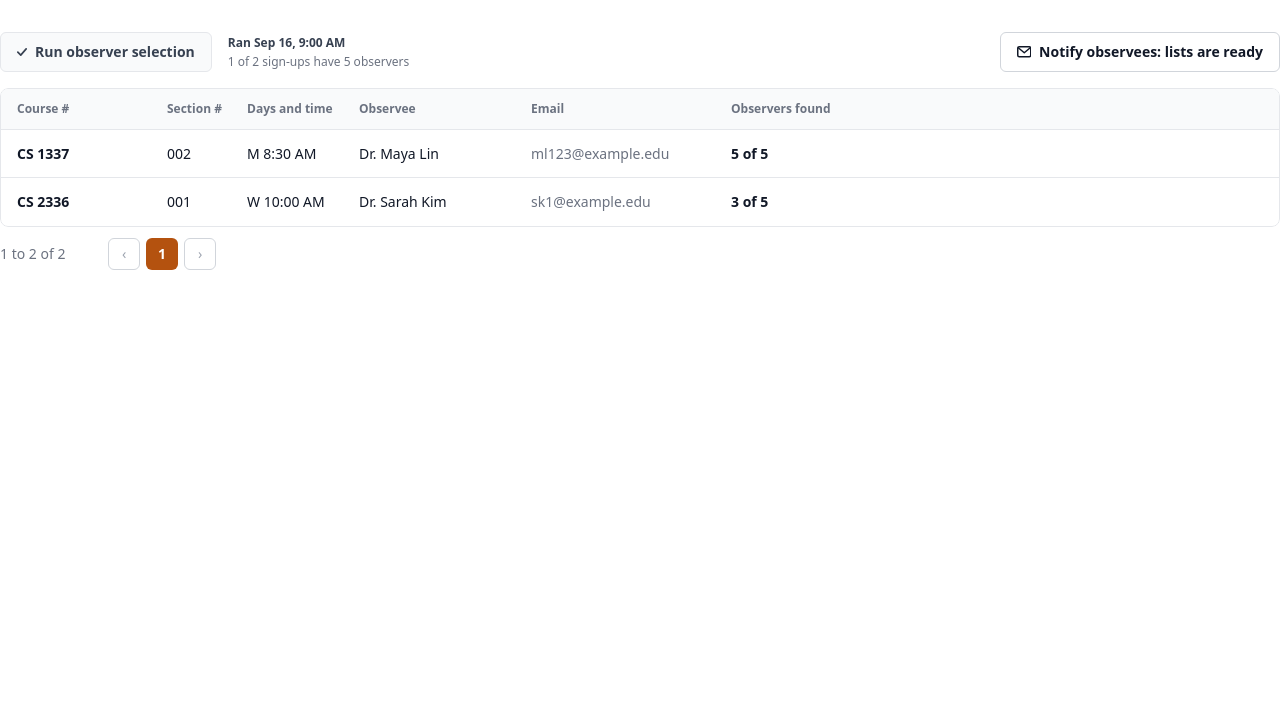
Test: Notify observees that their lists are ready › asks first, sends nothing on Cancel, then sends one POST with no body and reports the count
Click the button "Notify observees: lists are ready": (1140, 52) [1000,32,1279,72]
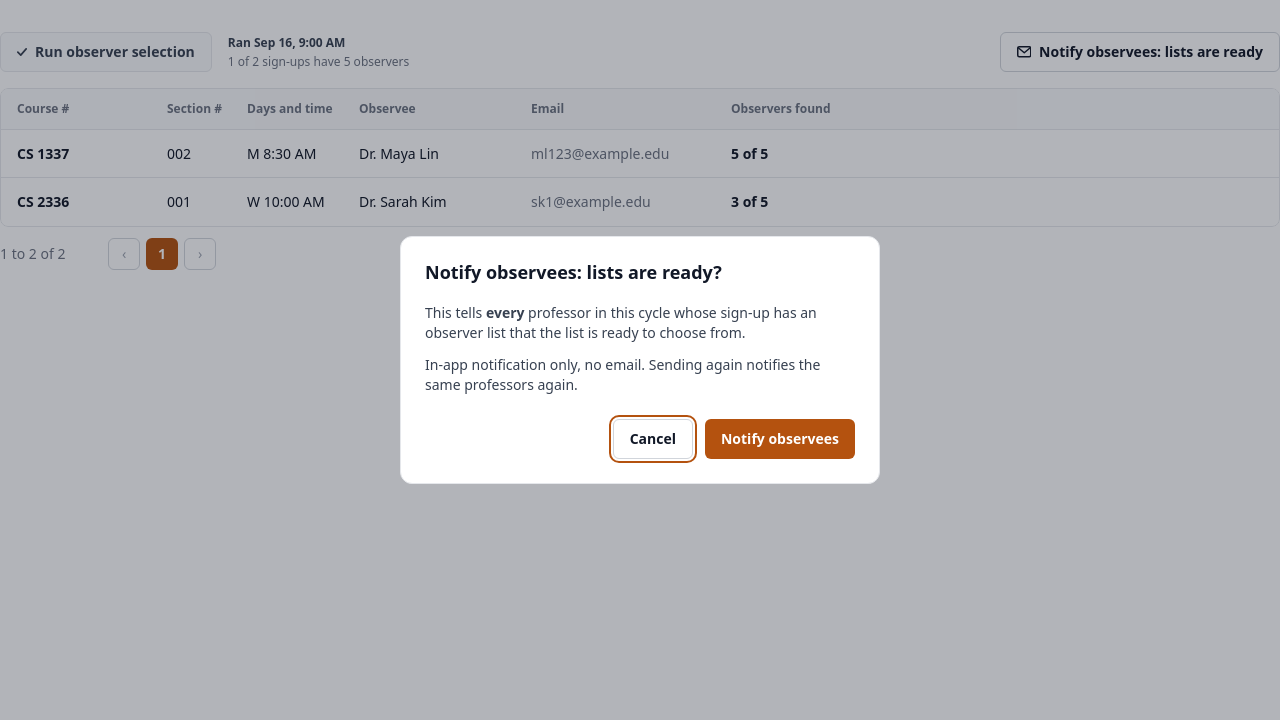
Expected: the dialog "Notify observees: lists are ready?" shows "In-app notification only, no email", [425,355,820,394]
Click the button "Cancel": (653, 439) [613,419,693,459]
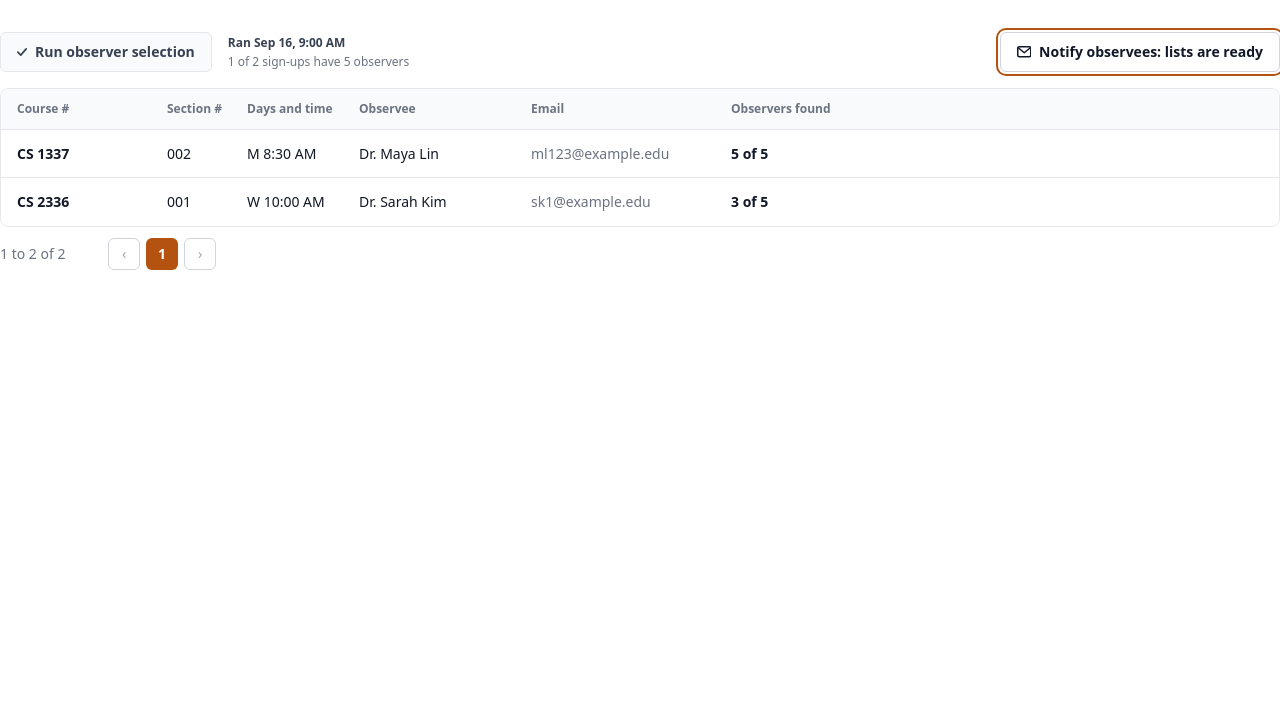
Expected: the dialog is gone
Click the button "Notify observees: lists are ready": (1140, 52) [1000,32,1279,72]
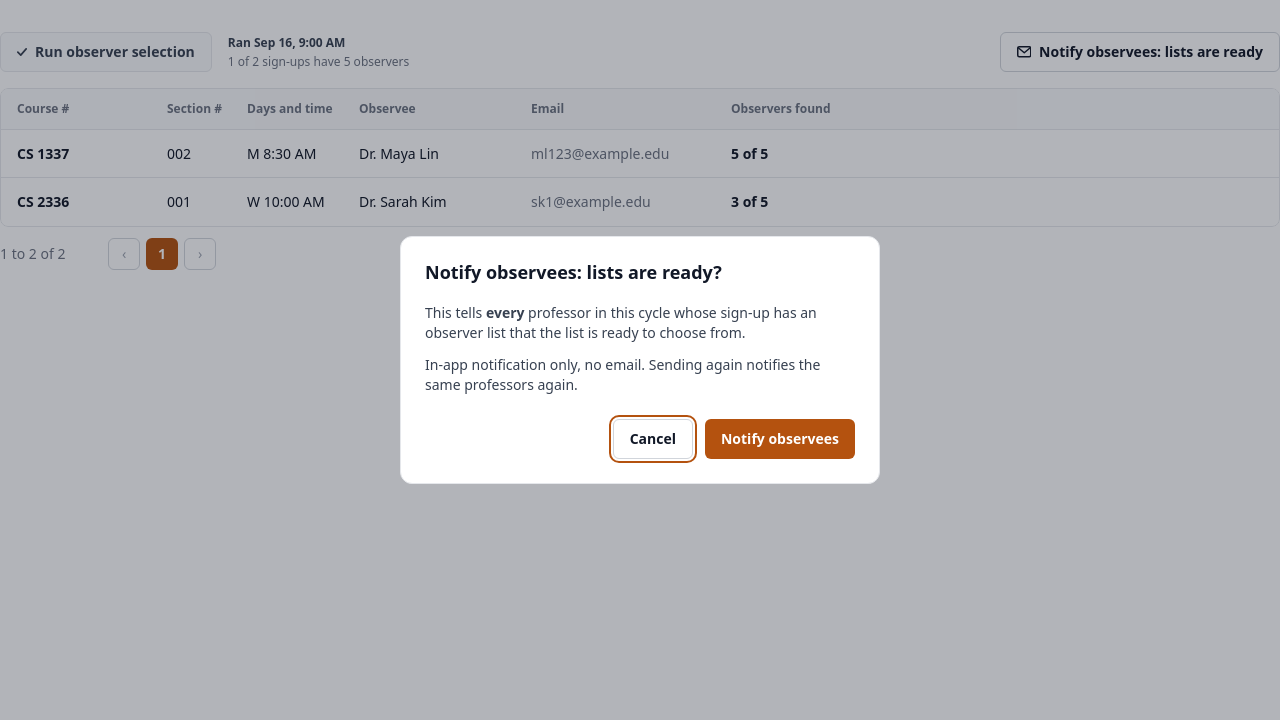
Click the button "Notify observees": (780, 439) [705,419,855,459]
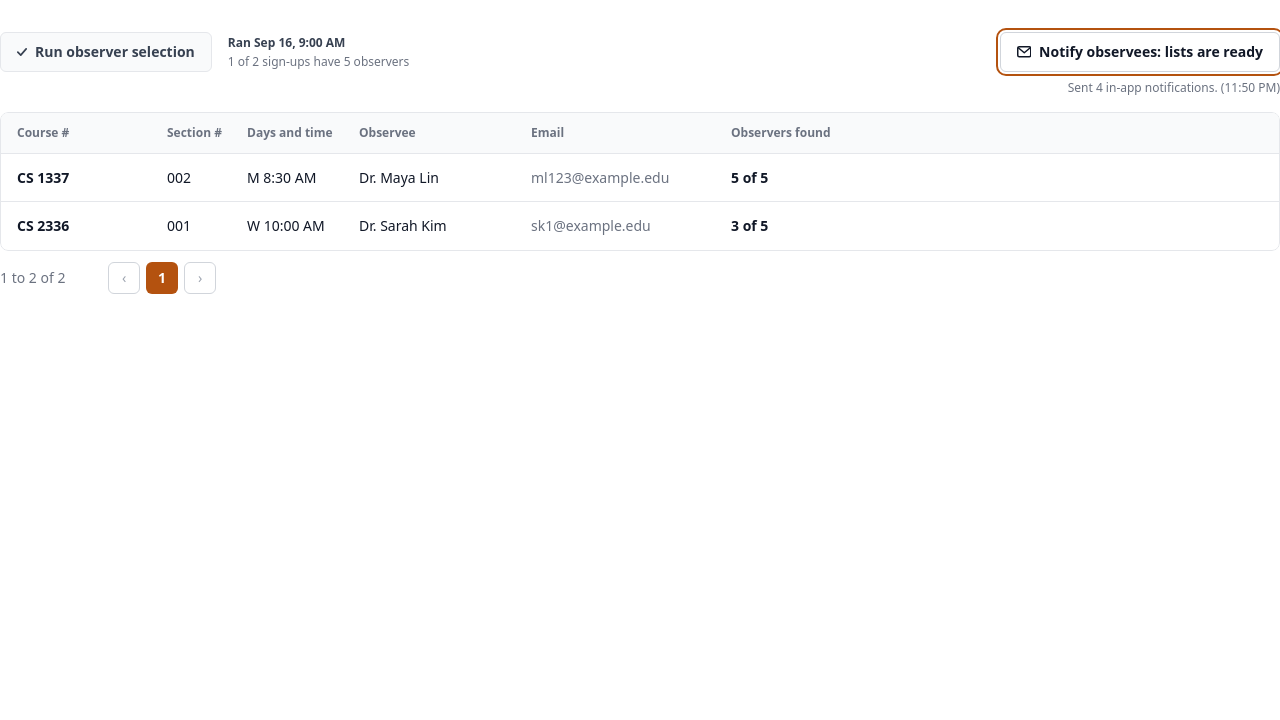
Expected: the text "Sent 4 in-app notifications. (11:50 PM)" is shown, [1068,80,1279,96]
